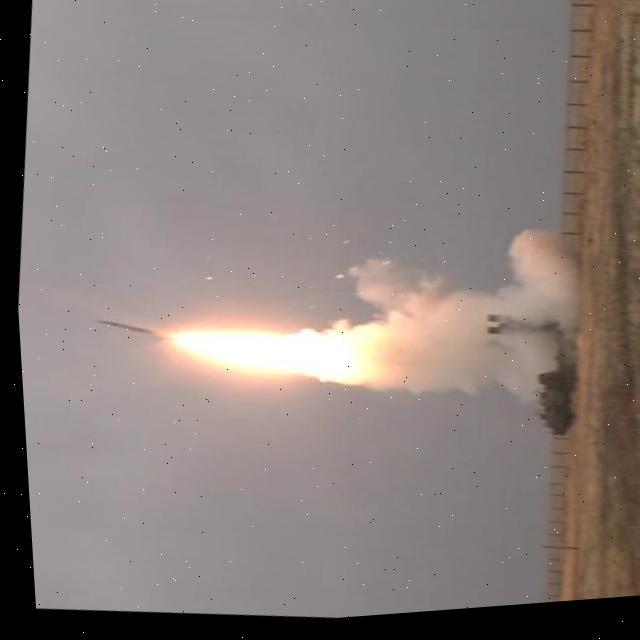missile: (74, 303, 164, 360)
